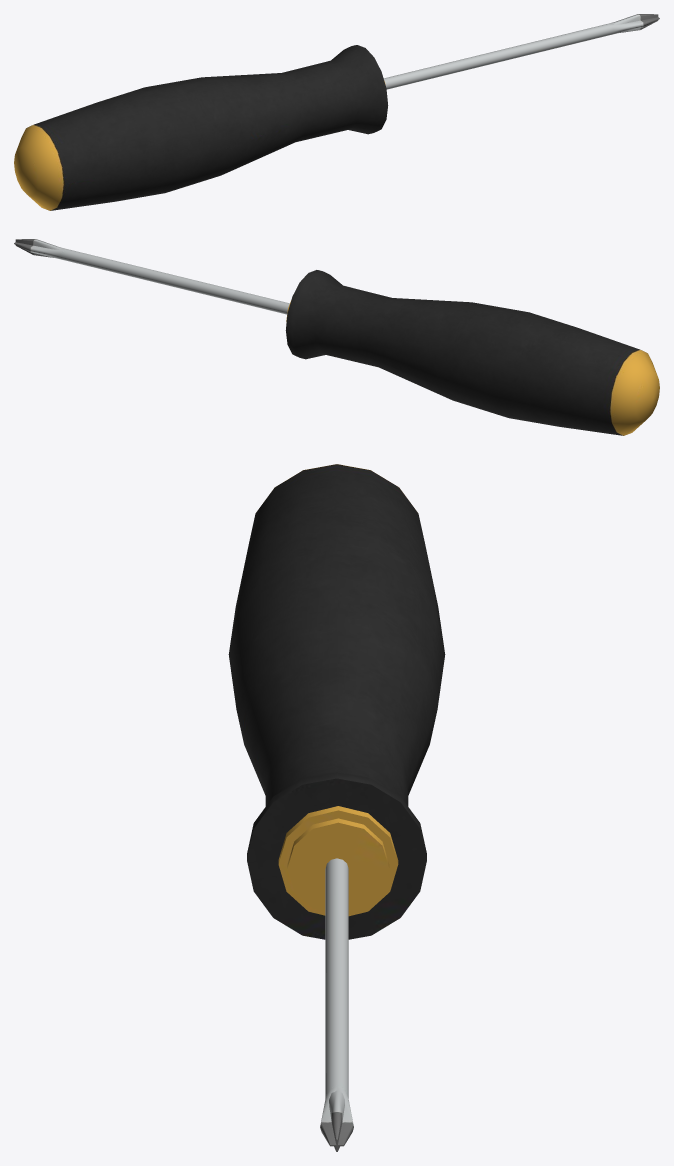
Rendered from tool_turn_screw_05.glb.
3 renders of one model, top to bottom at view 1: azimuth 30°, elevation 25°; view 2: azimuth 150°, elevation 25°; view 3: azimuth 270°, elevation 25°, orthographic. The views are drawn at different scales.
Visible parts, largest first — view 1: tool_turn_screw_05; view 2: tool_turn_screw_05; view 3: tool_turn_screw_05.
Boxes of the visible parts, bbox=[...] form: tool_turn_screw_05: bbox=[14, 14, 659, 210]; tool_turn_screw_05: bbox=[14, 239, 659, 435]; tool_turn_screw_05: bbox=[228, 464, 445, 1151].
Size of the model in its own units: 0.2315 by 0.034 by 0.034.
1 material, 1 textured.
